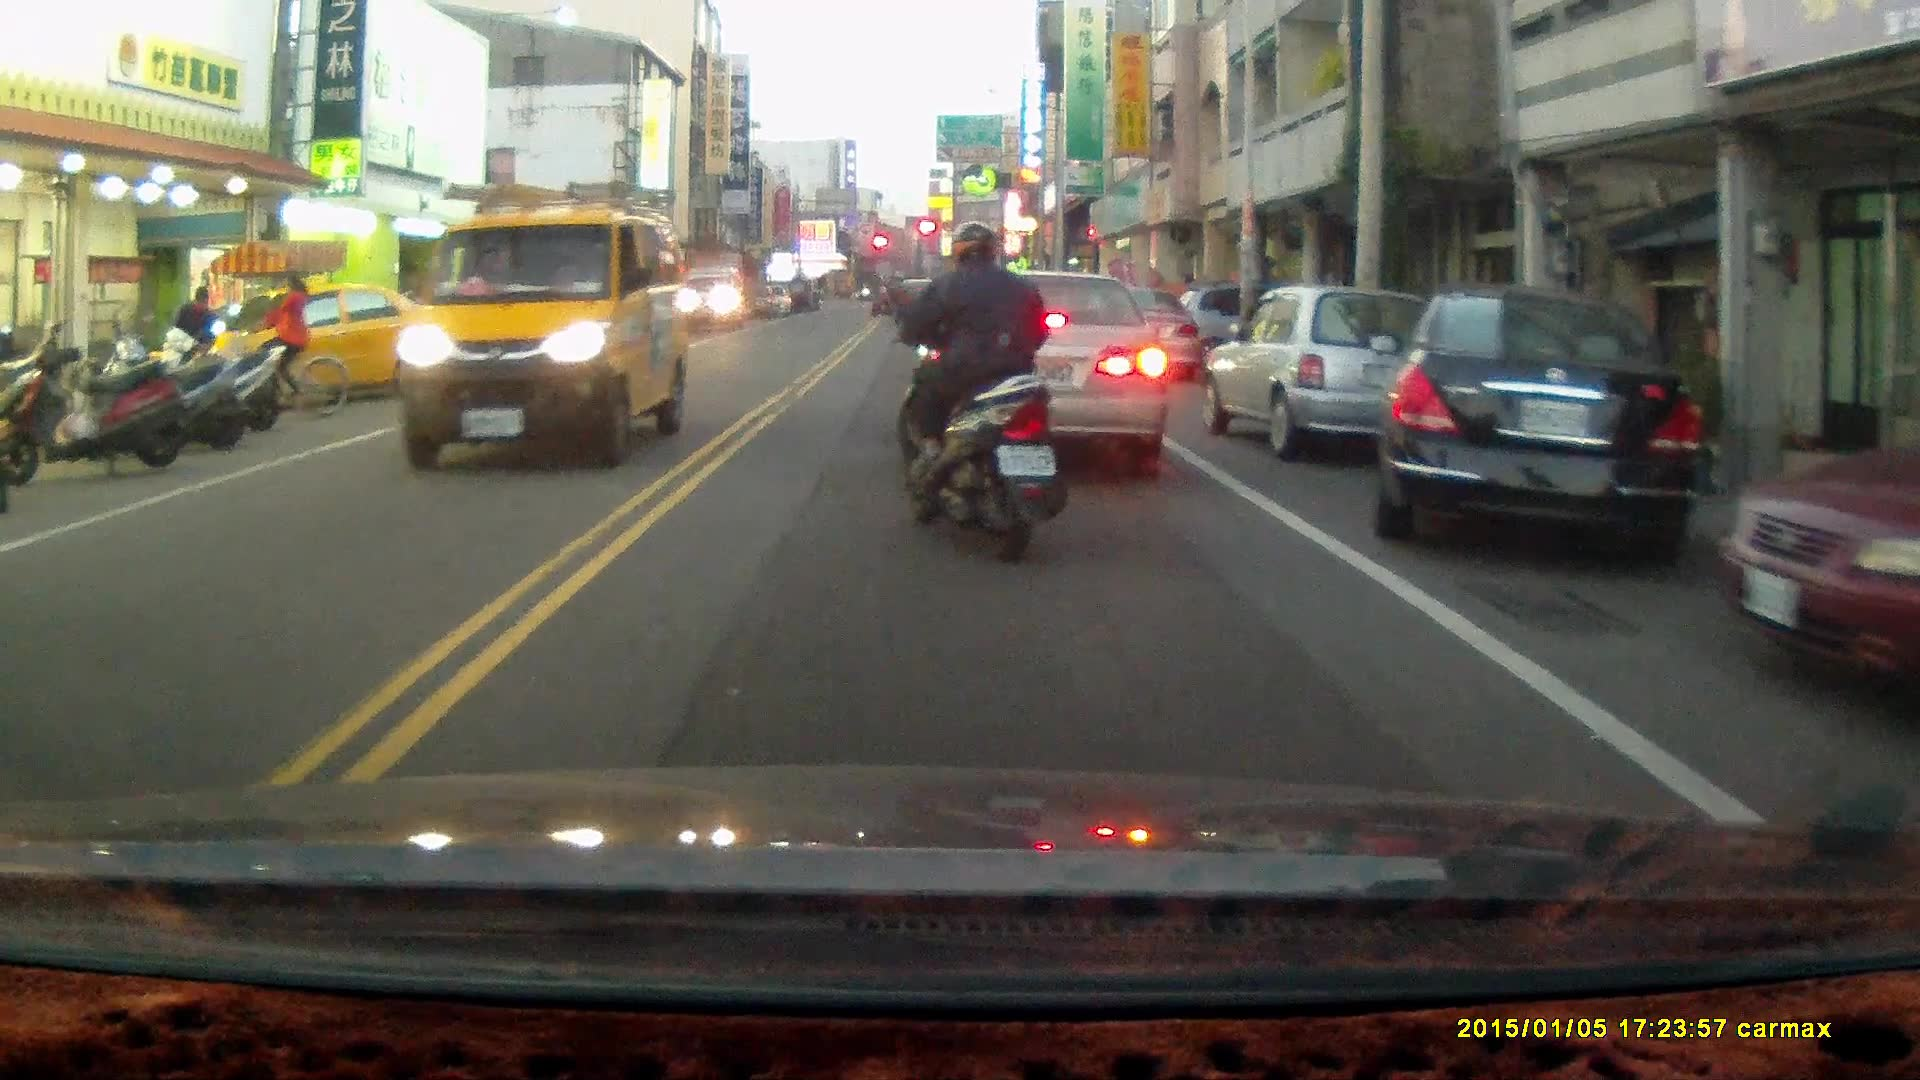pedestrian: (169, 282, 216, 387)
rider: (885, 219, 1071, 567), (231, 271, 346, 425)
vehicle: (1366, 290, 1709, 573), (398, 185, 696, 478), (1711, 379, 1920, 718), (914, 273, 1176, 482), (1203, 285, 1445, 464), (211, 288, 469, 408), (686, 268, 749, 337)
